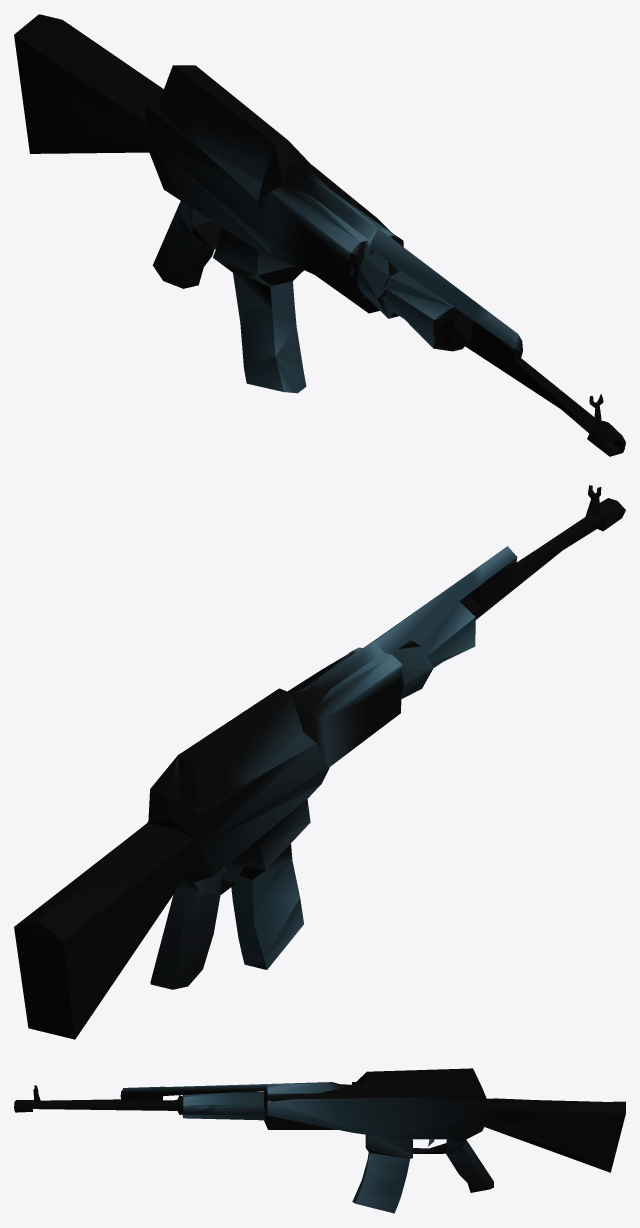
The model's file is Weapon_Karabin_Fixed.fbx.
3 renders of one model, top to bottom at view 1: azimuth 30°, elevation 25°; view 2: azimuth 150°, elevation 25°; view 3: azimuth 270°, elevation 25°, orthographic. The views are drawn at different scales.
Parts seen in each view (by area): view 1: Weapon_Karabin; view 2: Weapon_Karabin; view 3: Weapon_Karabin.
Boxes of the visible parts, bbox=[...] form: Weapon_Karabin: bbox=[14, 14, 625, 456]; Weapon_Karabin: bbox=[14, 485, 625, 1039]; Weapon_Karabin: bbox=[14, 1068, 625, 1213].
Size of the model in its own units: 0.0664 by 0.2621 by 1.04.
2 materials, 1 textured.
